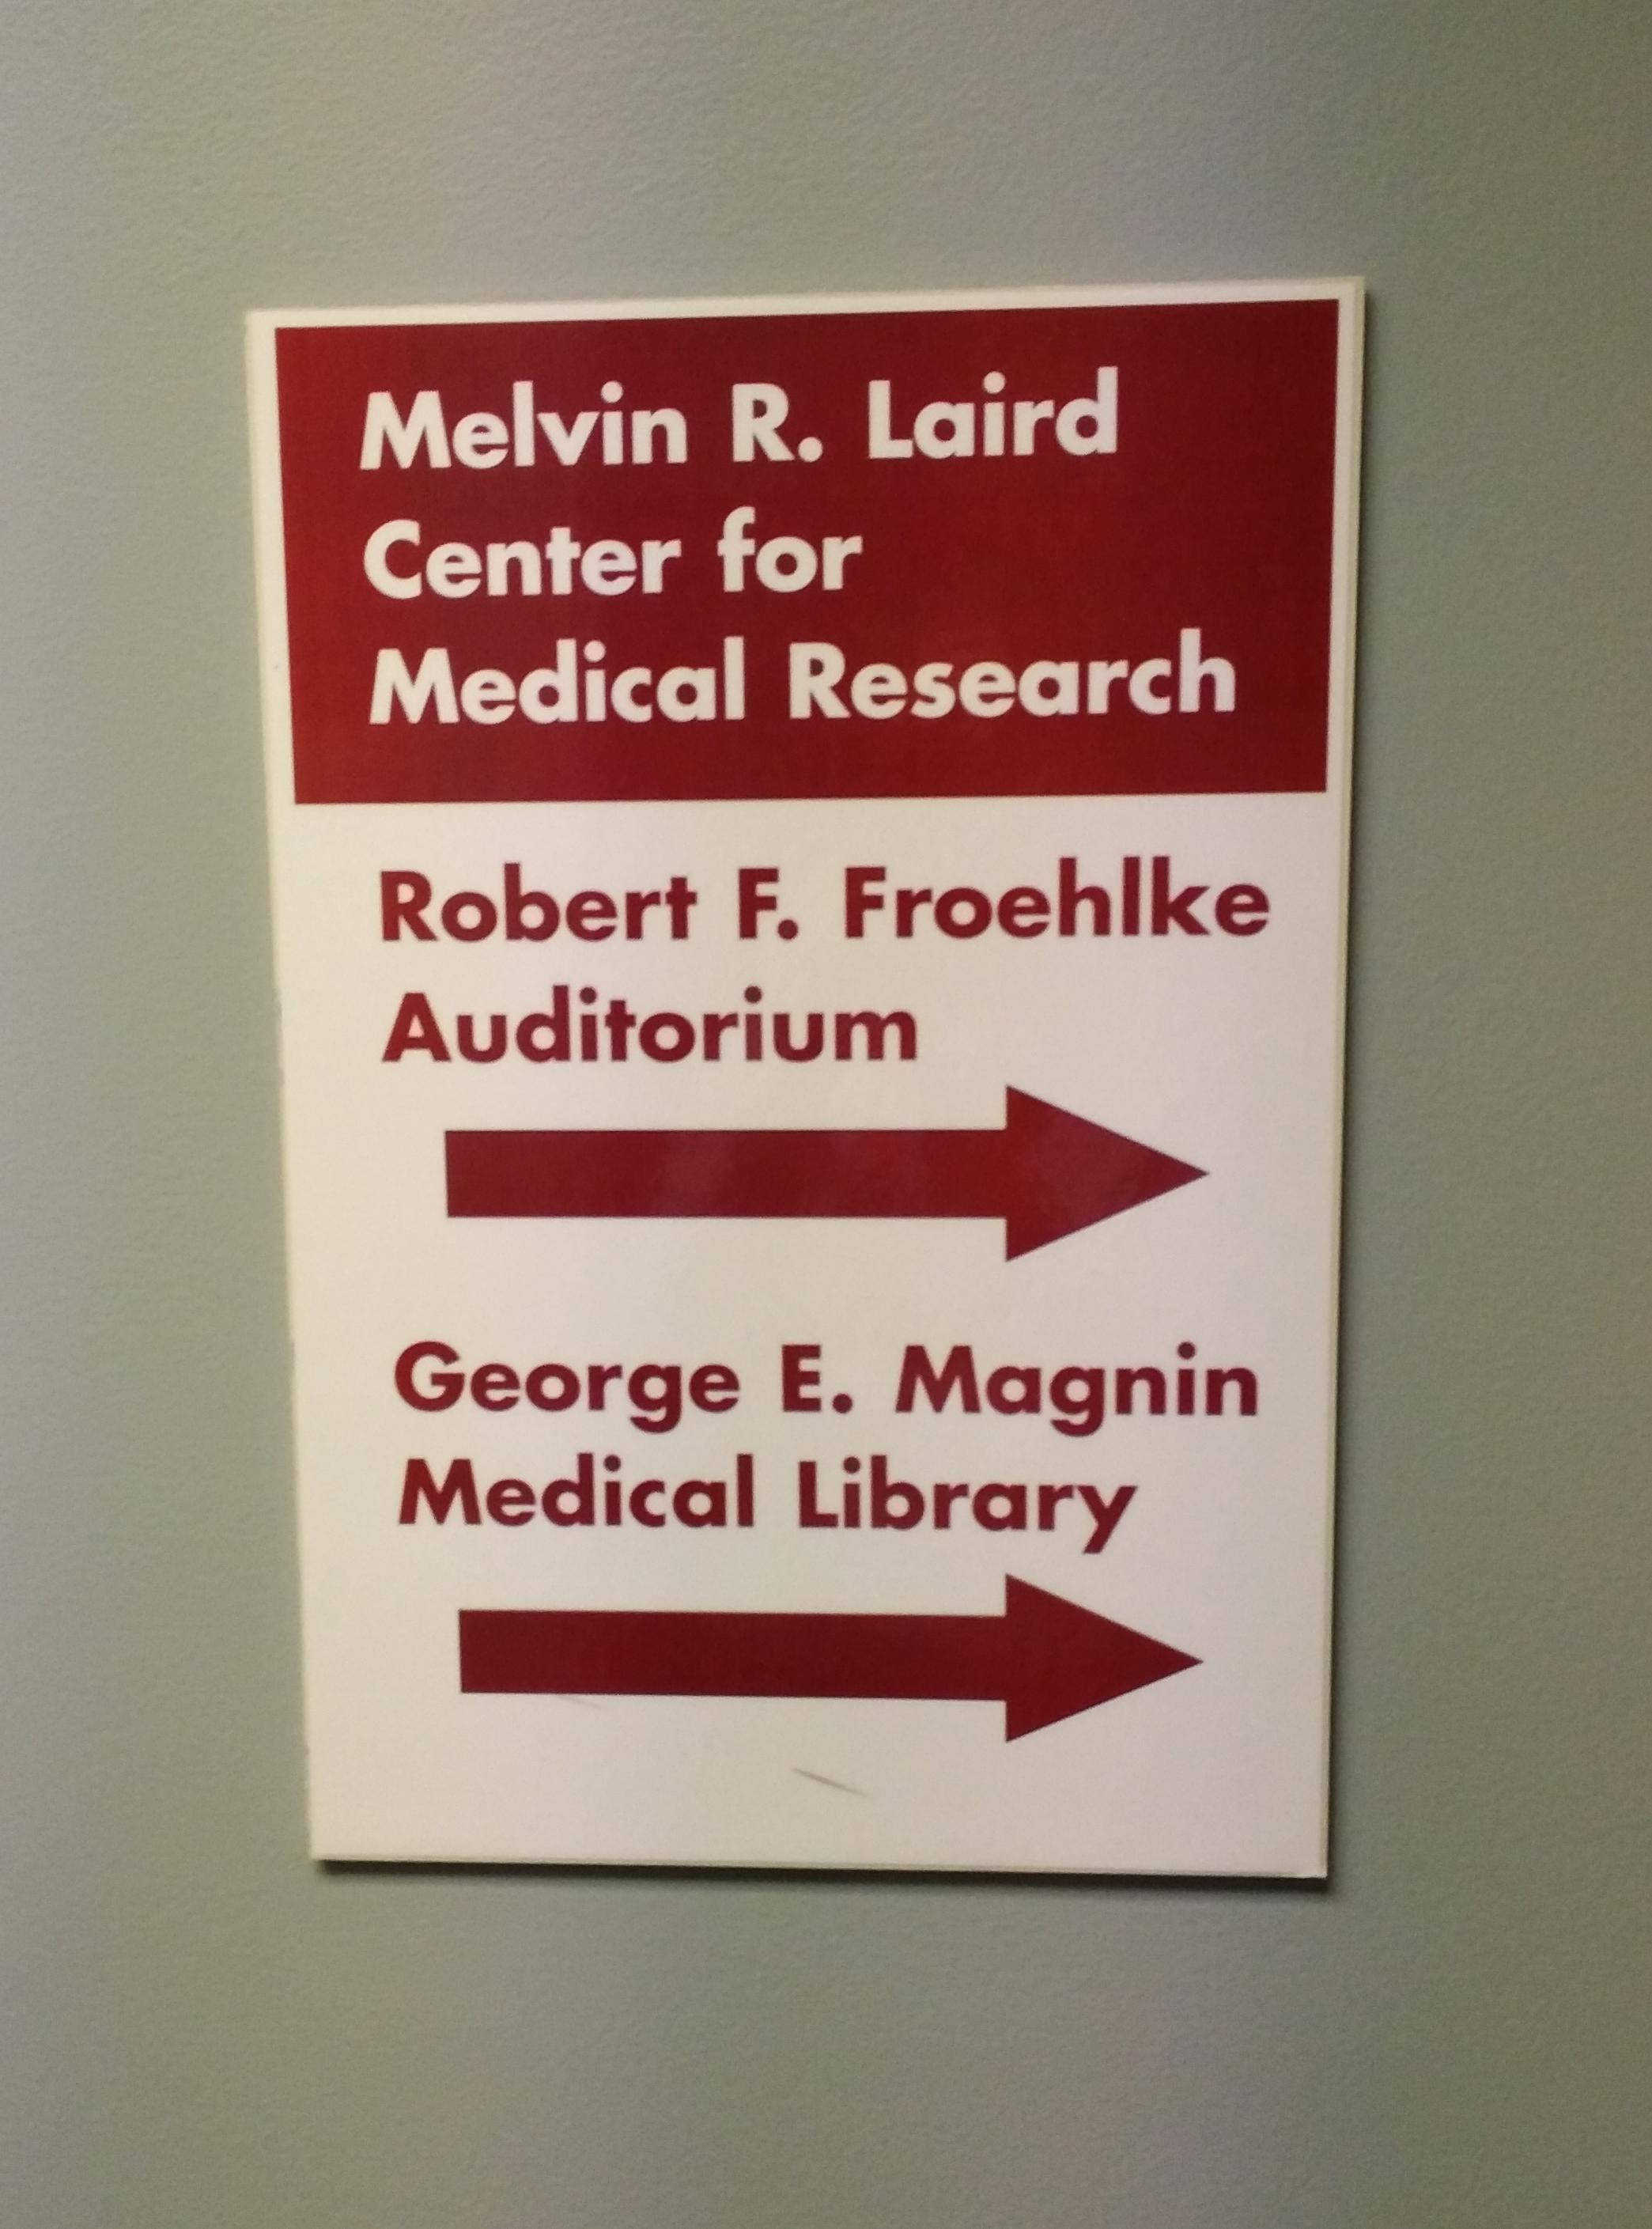sign: (241, 278, 1371, 1887)
